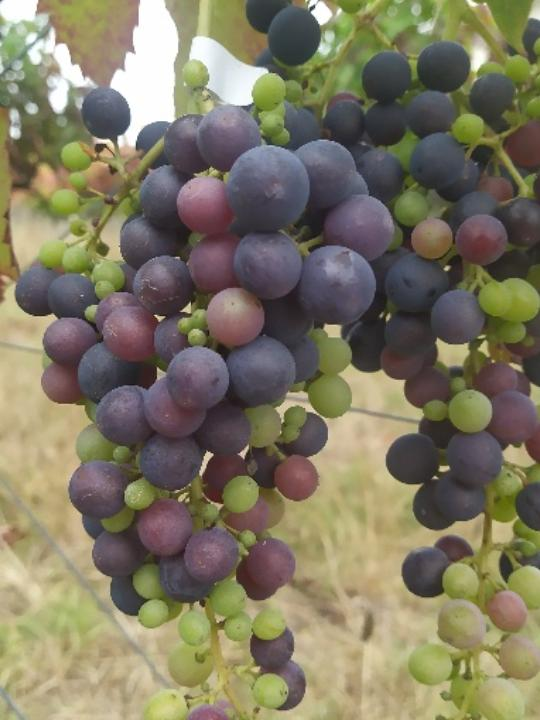grape: (7, 62, 394, 720), (242, 0, 540, 720)
